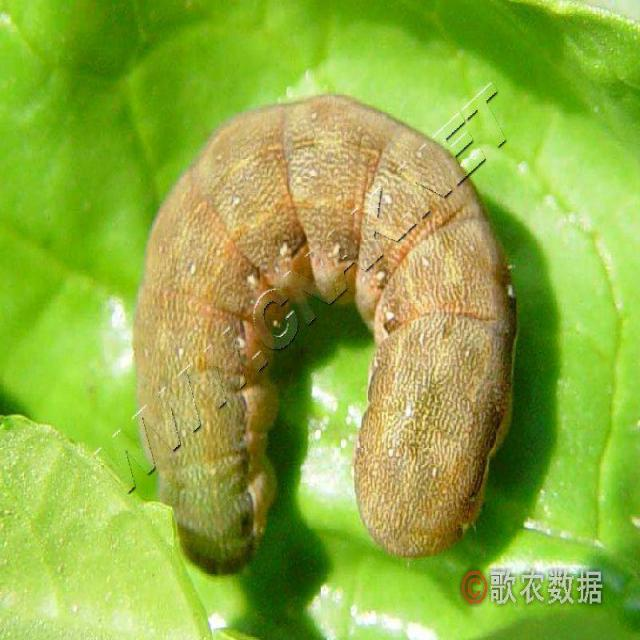BeetArmyWorm-Larva-: (108, 70, 532, 580)
